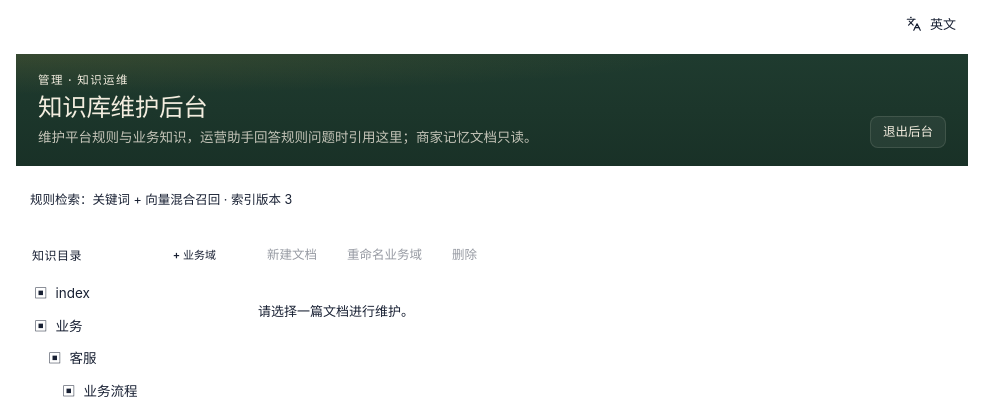
Test case: KnowledgeBaseView › 选中业务域根目录时重命名与删除按钮可用
This screenshot has width=985, height=414.
Click the button "▣ 客服": (128, 359) 26,343 -> 230,375
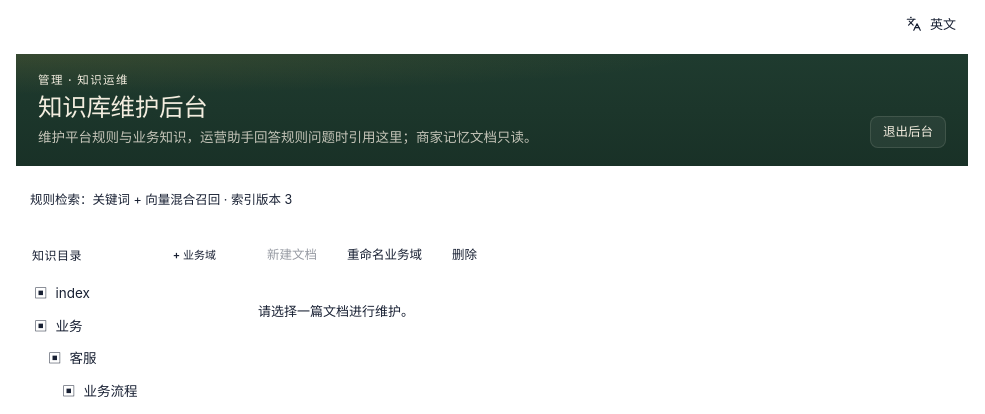
Now the button with test id "rename-domain" is enabled, box 336,240 -> 433,270
Now the button with test id "delete-node" is enabled, box 441,240 -> 488,270
